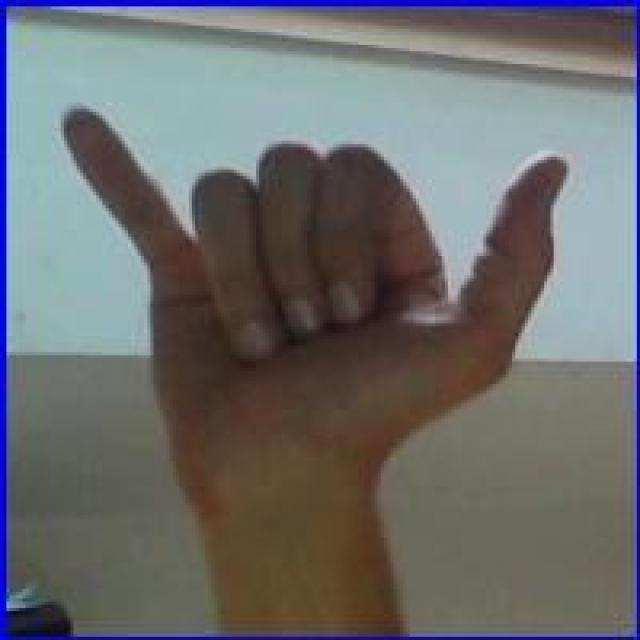Y: (54, 98, 570, 466)
